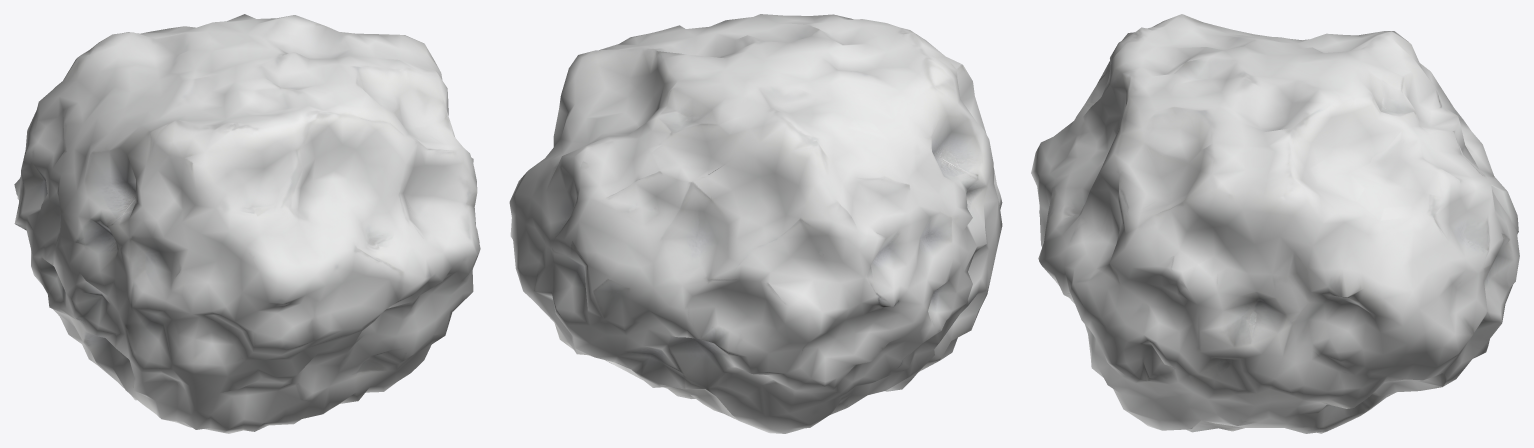
Rendered from asteroid_1.glb.
3 views of the same model, side by side, from view 1: azimuth 30°, elevation 25°; view 2: azimuth 150°, elevation 25°; view 3: azimuth 270°, elevation 25° (orthographic). The views are drawn at different scales.
Parts seen in each view (by area): view 1: Mesh_0; view 2: Mesh_0; view 3: Mesh_0.
Boxes of the visible parts, <box> form: Mesh_0: <box>14,14,480,433</box>; Mesh_0: <box>509,14,1002,433</box>; Mesh_0: <box>1031,14,1519,433</box>.
Size of the model in its own units: 1.23 by 1 by 1.31.
Materials: 1 (1 with a texture image).
